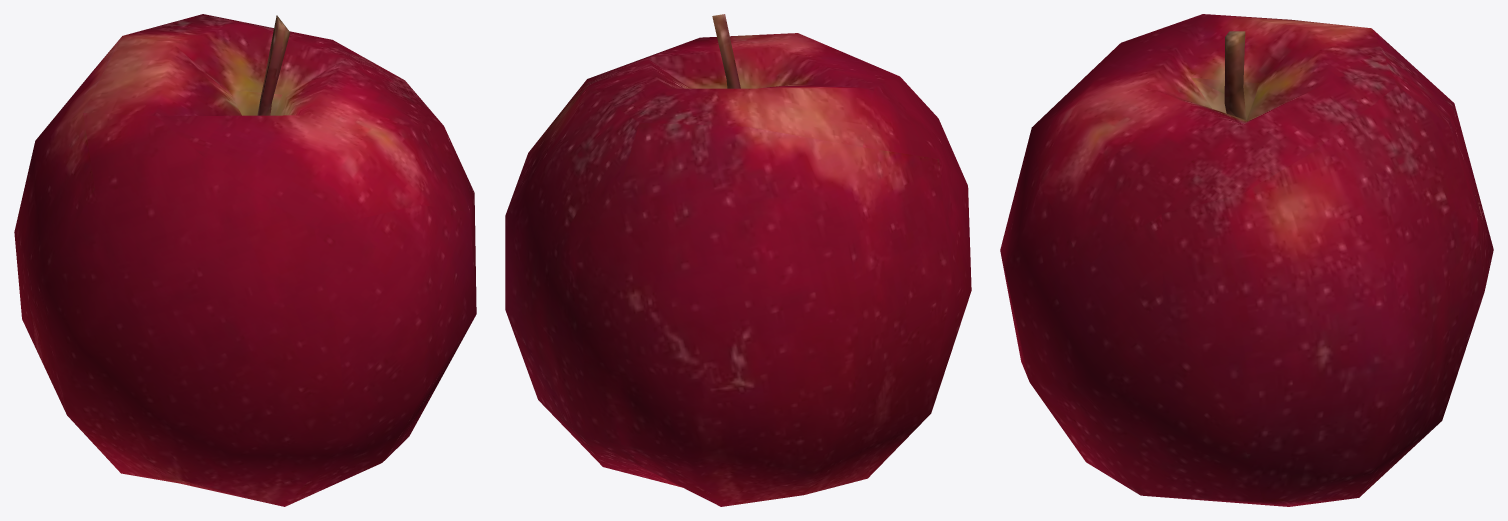
The model's file is apple.glb.
3 renders of one model, left to right at view 1: azimuth 30°, elevation 25°; view 2: azimuth 150°, elevation 25°; view 3: azimuth 270°, elevation 25°, orthographic. The views are drawn at different scales.
Visible parts, largest first — view 1: tgzoahbpa_LOD0_TIER3_000_MatID_1_0; view 2: tgzoahbpa_LOD0_TIER3_000_MatID_1_0; view 3: tgzoahbpa_LOD0_TIER3_000_MatID_1_0.
Part boxes in pixels (<box>): tgzoahbpa_LOD0_TIER3_000_MatID_1_0: <box>14,14,476,506</box>; tgzoahbpa_LOD0_TIER3_000_MatID_1_0: <box>505,14,971,506</box>; tgzoahbpa_LOD0_TIER3_000_MatID_1_0: <box>1000,14,1493,506</box>.
Size of the model in its own units: 0.0766 by 0.0802 by 0.0774.
Materials: 1 (1 with a texture image).
